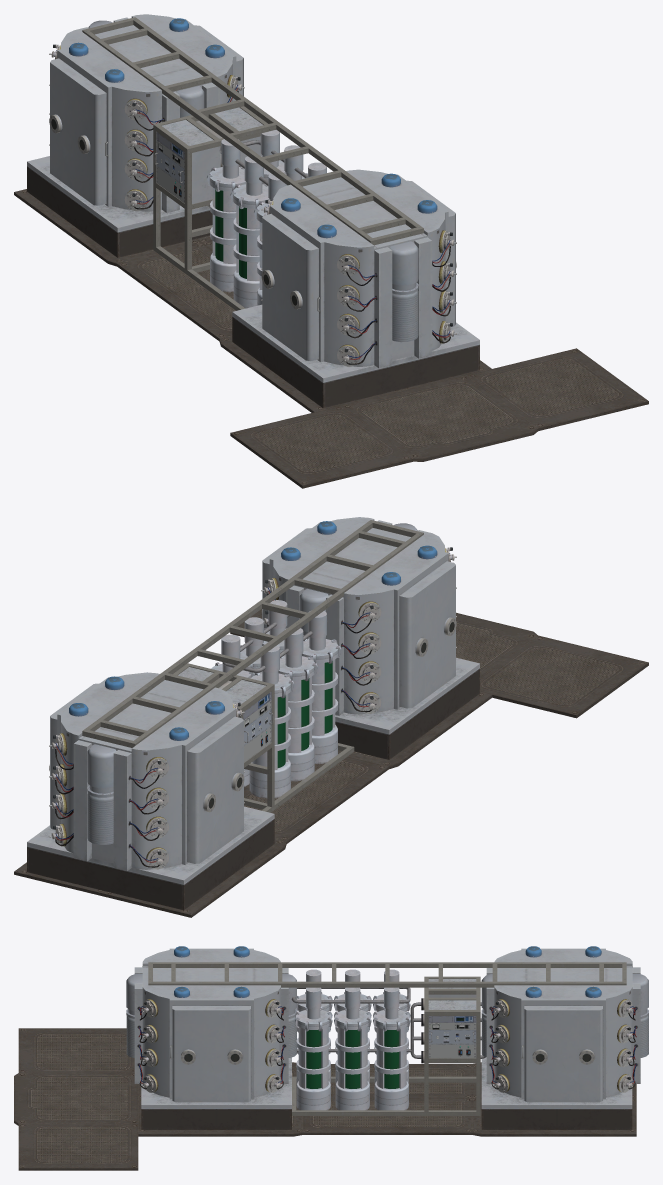
File: sm23_028_equipment01a.fbx
3 renders of one model, top to bottom at view 1: azimuth 30°, elevation 25°; view 2: azimuth 150°, elevation 25°; view 3: azimuth 270°, elevation 25°, orthographic. The views are drawn at different scales.
Visible parts, largest first — view 1: LOD_1_Group_1_Sub_1__sm23_028_Equipment01A_B_Mat, LOD_1_Group_0_Sub_1__sm23_028_Equipment01A_A_Mat, LOD_1_Group_6_Sub_1__sm23_028_Equipment01A_C_Mat, LOD_1_Group_13_Sub_1__sm23_028_Equipment01A_D_Mat, LOD_1_Group_9_Sub_1__sm23_028_Equipment01A_D_Mat, LOD_1_Group_8_Sub_1__sm23_028_Equipment01A_C_Mat, LOD_1_Group_11_Sub_1__sm23_028_Equipment01A_D_Mat, LOD_1_Group_3_Sub_1__sm23_028_Equipment01A_B_Mat, LOD_1_Group_7_Sub_1__sm23_028_Equipment01A_C_Mat, LOD_1_Group_2_Sub_1__sm23_028_Equipment01A_B_Mat, LOD_1_Group_7_Sub_2__sm23_028_Equipment01A_C_Mat__Env_Emissi, LOD_1_Group_12_Sub_1__sm23_028_Equipment01A_D_Mat__Env_Emiss; view 2: LOD_1_Group_1_Sub_1__sm23_028_Equipment01A_B_Mat, LOD_1_Group_0_Sub_1__sm23_028_Equipment01A_A_Mat, LOD_1_Group_6_Sub_1__sm23_028_Equipment01A_C_Mat, LOD_1_Group_9_Sub_1__sm23_028_Equipment01A_D_Mat, LOD_1_Group_13_Sub_1__sm23_028_Equipment01A_D_Mat, LOD_1_Group_8_Sub_1__sm23_028_Equipment01A_C_Mat, LOD_1_Group_3_Sub_1__sm23_028_Equipment01A_B_Mat, LOD_1_Group_11_Sub_1__sm23_028_Equipment01A_D_Mat, LOD_1_Group_2_Sub_1__sm23_028_Equipment01A_B_Mat, LOD_1_Group_12_Sub_1__sm23_028_Equipment01A_D_Mat__Env_Emiss, LOD_1_Group_7_Sub_2__sm23_028_Equipment01A_C_Mat__Env_Emissi, LOD_1_Group_7_Sub_1__sm23_028_Equipment01A_C_Mat; view 3: LOD_1_Group_1_Sub_1__sm23_028_Equipment01A_B_Mat, LOD_1_Group_0_Sub_1__sm23_028_Equipment01A_A_Mat, LOD_1_Group_9_Sub_1__sm23_028_Equipment01A_D_Mat, LOD_1_Group_6_Sub_1__sm23_028_Equipment01A_C_Mat, LOD_1_Group_13_Sub_1__sm23_028_Equipment01A_D_Mat, LOD_1_Group_11_Sub_1__sm23_028_Equipment01A_D_Mat, LOD_1_Group_8_Sub_1__sm23_028_Equipment01A_C_Mat, LOD_1_Group_3_Sub_1__sm23_028_Equipment01A_B_Mat, LOD_1_Group_12_Sub_1__sm23_028_Equipment01A_D_Mat__Env_Emiss, LOD_1_Group_7_Sub_2__sm23_028_Equipment01A_C_Mat__Env_Emissi, LOD_1_Group_2_Sub_1__sm23_028_Equipment01A_B_Mat, LOD_1_Group_5_Sub_1__sm23_028_Equipment01A_B_Mat (+2 smaller).
Boxes of the visible parts, x1,y1,x2,y2 form: LOD_1_Group_1_Sub_1__sm23_028_Equipment01A_B_Mat: [49, 14, 456, 366]; LOD_1_Group_0_Sub_1__sm23_028_Equipment01A_A_Mat: [14, 189, 648, 488]; LOD_1_Group_6_Sub_1__sm23_028_Equipment01A_C_Mat: [27, 156, 479, 408]; LOD_1_Group_13_Sub_1__sm23_028_Equipment01A_D_Mat: [82, 17, 423, 245]; LOD_1_Group_9_Sub_1__sm23_028_Equipment01A_D_Mat: [210, 129, 326, 308]; LOD_1_Group_8_Sub_1__sm23_028_Equipment01A_C_Mat: [79, 17, 432, 368]; LOD_1_Group_11_Sub_1__sm23_028_Equipment01A_D_Mat: [153, 106, 267, 310]; LOD_1_Group_3_Sub_1__sm23_028_Equipment01A_B_Mat: [88, 20, 418, 342]; LOD_1_Group_7_Sub_1__sm23_028_Equipment01A_C_Mat: [154, 107, 263, 203]; LOD_1_Group_2_Sub_1__sm23_028_Equipment01A_B_Mat: [69, 18, 437, 238]; LOD_1_Group_7_Sub_2__sm23_028_Equipment01A_C_Mat__Env_Emissi: [156, 132, 184, 202]; LOD_1_Group_12_Sub_1__sm23_028_Equipment01A_D_Mat__Env_Emiss: [215, 189, 246, 278]; LOD_1_Group_1_Sub_1__sm23_028_Equipment01A_B_Mat: [49, 517, 456, 869]; LOD_1_Group_0_Sub_1__sm23_028_Equipment01A_A_Mat: [14, 609, 648, 917]; LOD_1_Group_6_Sub_1__sm23_028_Equipment01A_C_Mat: [27, 657, 479, 910]; LOD_1_Group_9_Sub_1__sm23_028_Equipment01A_D_Mat: [211, 600, 338, 798]; LOD_1_Group_13_Sub_1__sm23_028_Equipment01A_D_Mat: [82, 520, 423, 747]; LOD_1_Group_8_Sub_1__sm23_028_Equipment01A_C_Mat: [73, 520, 426, 871]; LOD_1_Group_3_Sub_1__sm23_028_Equipment01A_B_Mat: [87, 523, 417, 844]; LOD_1_Group_11_Sub_1__sm23_028_Equipment01A_D_Mat: [173, 663, 354, 812]; LOD_1_Group_2_Sub_1__sm23_028_Equipment01A_B_Mat: [69, 521, 437, 740]; LOD_1_Group_12_Sub_1__sm23_028_Equipment01A_D_Mat__Env_Emiss: [277, 661, 332, 767]; LOD_1_Group_7_Sub_2__sm23_028_Equipment01A_C_Mat__Env_Emissi: [243, 691, 271, 762]; LOD_1_Group_7_Sub_1__sm23_028_Equipment01A_C_Mat: [178, 667, 273, 742]; LOD_1_Group_1_Sub_1__sm23_028_Equipment01A_B_Mat: [138, 948, 636, 1102]; LOD_1_Group_0_Sub_1__sm23_028_Equipment01A_A_Mat: [14, 1028, 636, 1170]; LOD_1_Group_9_Sub_1__sm23_028_Equipment01A_D_Mat: [296, 969, 409, 1110]; LOD_1_Group_6_Sub_1__sm23_028_Equipment01A_C_Mat: [141, 1054, 632, 1129]; LOD_1_Group_13_Sub_1__sm23_028_Equipment01A_D_Mat: [148, 962, 626, 987]; LOD_1_Group_11_Sub_1__sm23_028_Equipment01A_D_Mat: [292, 976, 480, 1115]; LOD_1_Group_8_Sub_1__sm23_028_Equipment01A_C_Mat: [134, 967, 640, 1083]; LOD_1_Group_3_Sub_1__sm23_028_Equipment01A_B_Mat: [126, 973, 648, 1057]; LOD_1_Group_12_Sub_1__sm23_028_Equipment01A_D_Mat__Env_Emiss: [306, 1029, 399, 1088]; LOD_1_Group_7_Sub_2__sm23_028_Equipment01A_C_Mat__Env_Emissi: [428, 1016, 476, 1058]; LOD_1_Group_2_Sub_1__sm23_028_Equipment01A_B_Mat: [174, 946, 601, 997]; LOD_1_Group_5_Sub_1__sm23_028_Equipment01A_B_Mat: [291, 987, 485, 1058].
Size of the model in its own units: 5.67 by 2.48 by 10.86.
